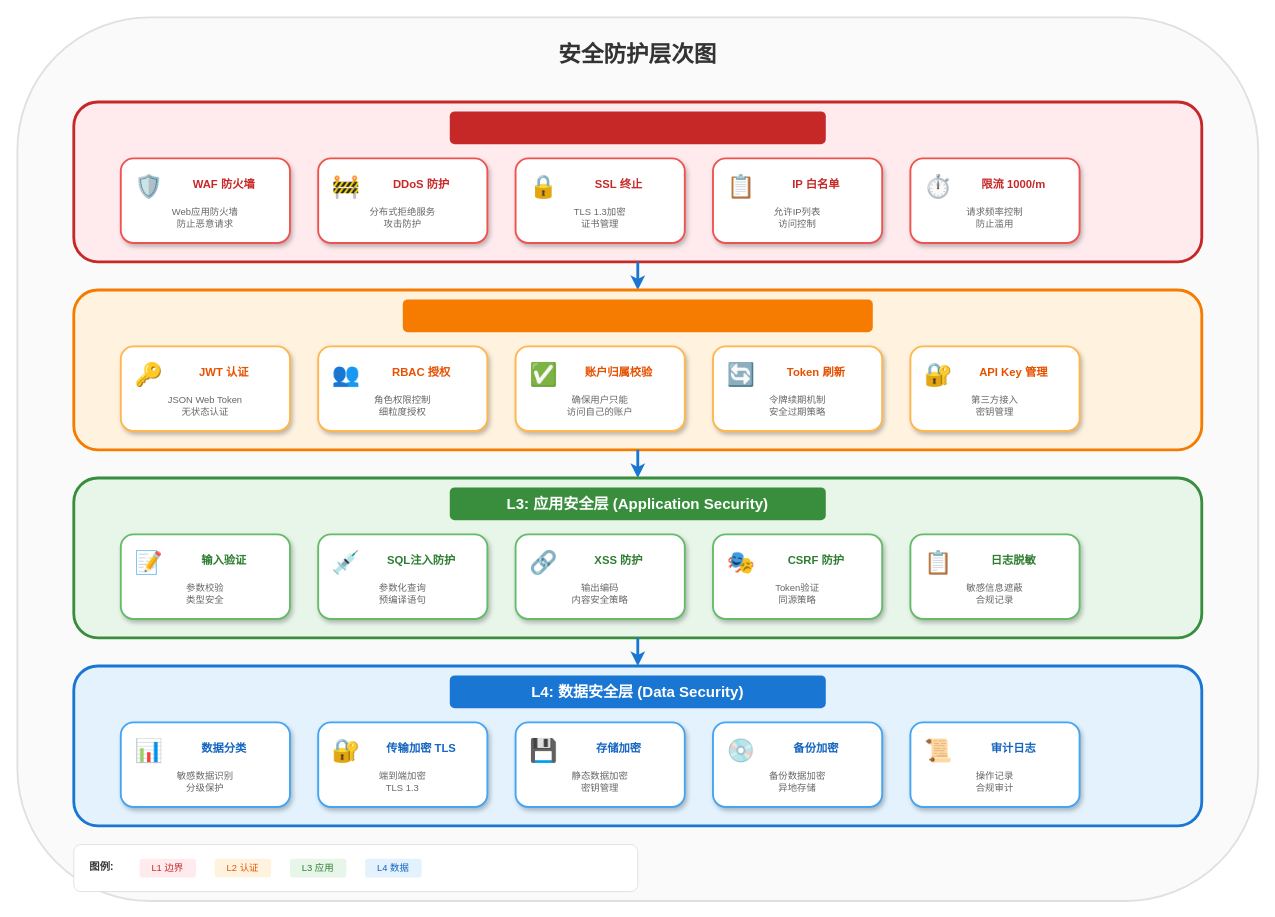
Image size: 1275x917. Some labels were removed from this diagram. The centre of each missing label's shape, as x and y in pixels:
L1: 边界安全层 (Perimeter Security): (x=637, y=127)
L2: 认证授权层 (Authentication & Authorization): (x=637, y=315)
